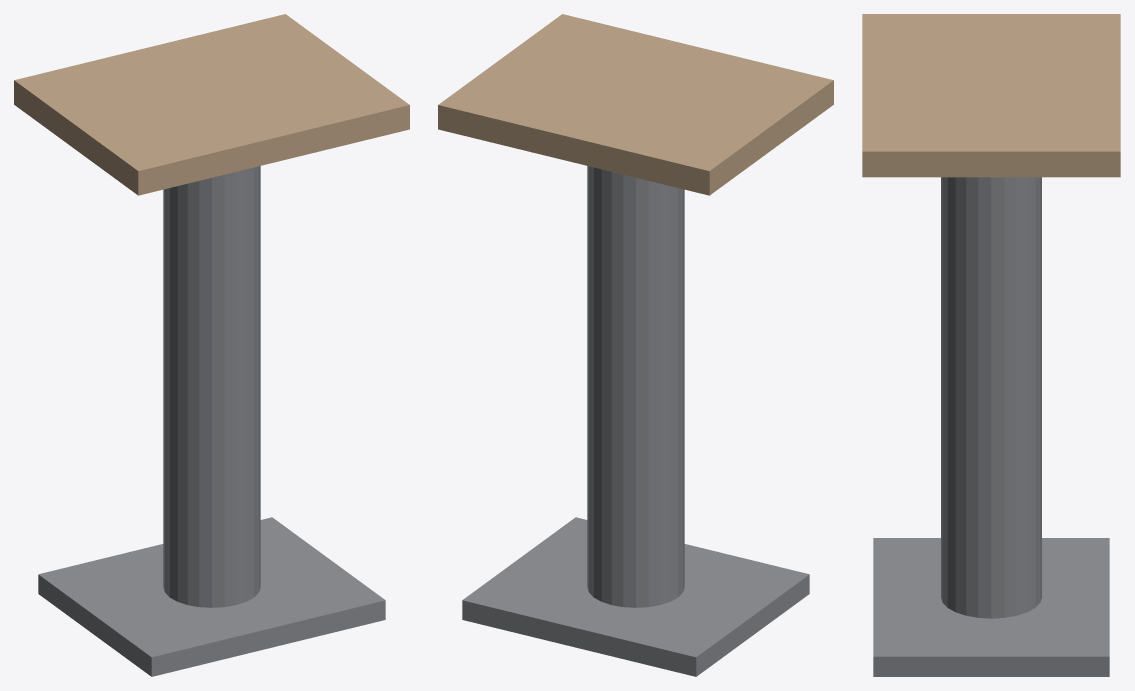
The model's file is lectern-PRIM-002.glb.
3 views of the same model, side by side, from view 1: azimuth 30°, elevation 25°; view 2: azimuth 150°, elevation 25°; view 3: azimuth 270°, elevation 25° (orthographic). The views are drawn at different scales.
Visible parts, largest first — view 1: p1, p0, p2; view 2: p1, p0, p2; view 3: p0, p1, p2.
Boxes of the visible parts, x1,y1,x2,y2 form: p1: (14,14,409,195); p0: (163,166,260,607); p2: (38,517,385,676); p1: (438,14,833,195); p0: (587,166,684,607); p2: (462,517,809,676); p0: (941,177,1041,618); p1: (862,14,1120,177); p2: (873,538,1109,676).
Bounding box in the file's own units: 0.58 × 1.05 × 0.46.
